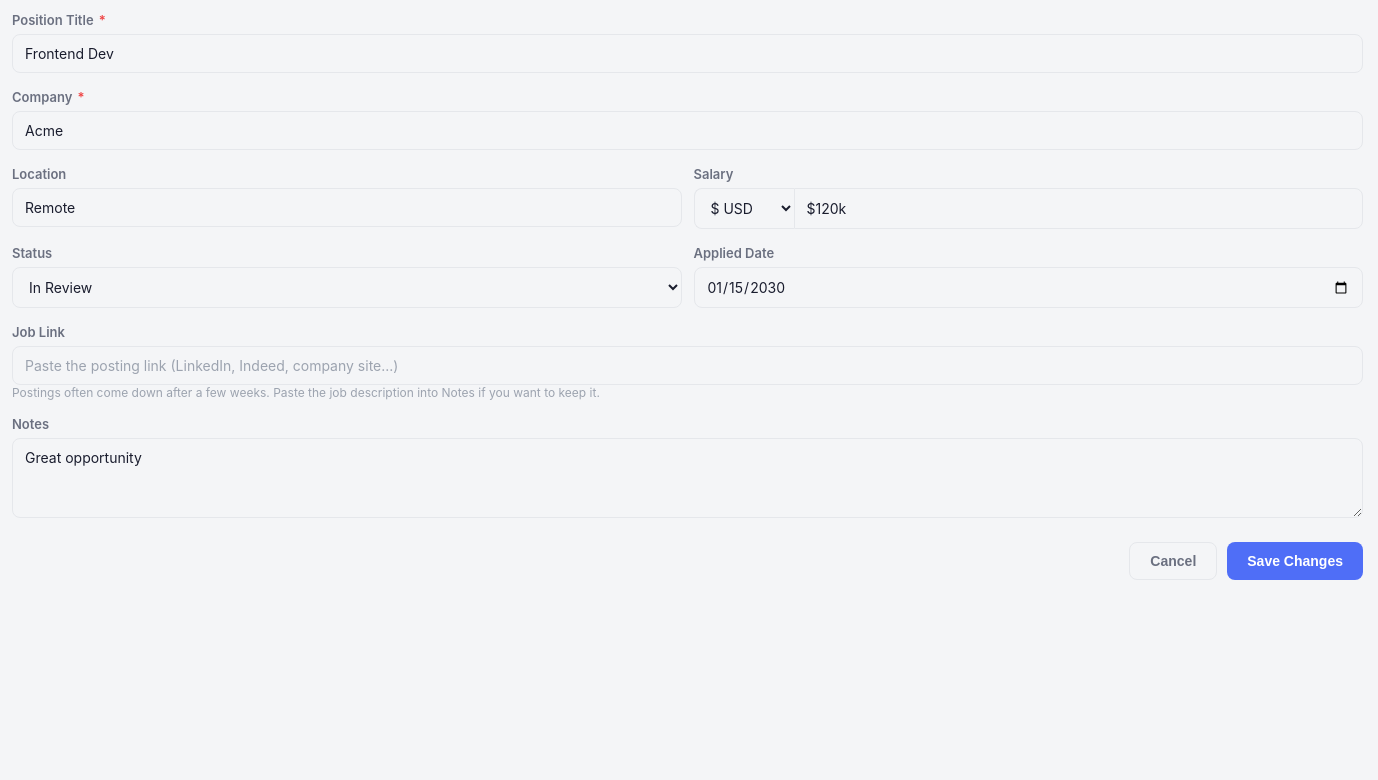
Scenario: ApplicationForm › blocks a link that is not a web address
Step 1. Type "javascript:alert(1)" into the field labelled "Job Link" → (688, 366), box x1=12 y1=346 x2=1363 y2=385
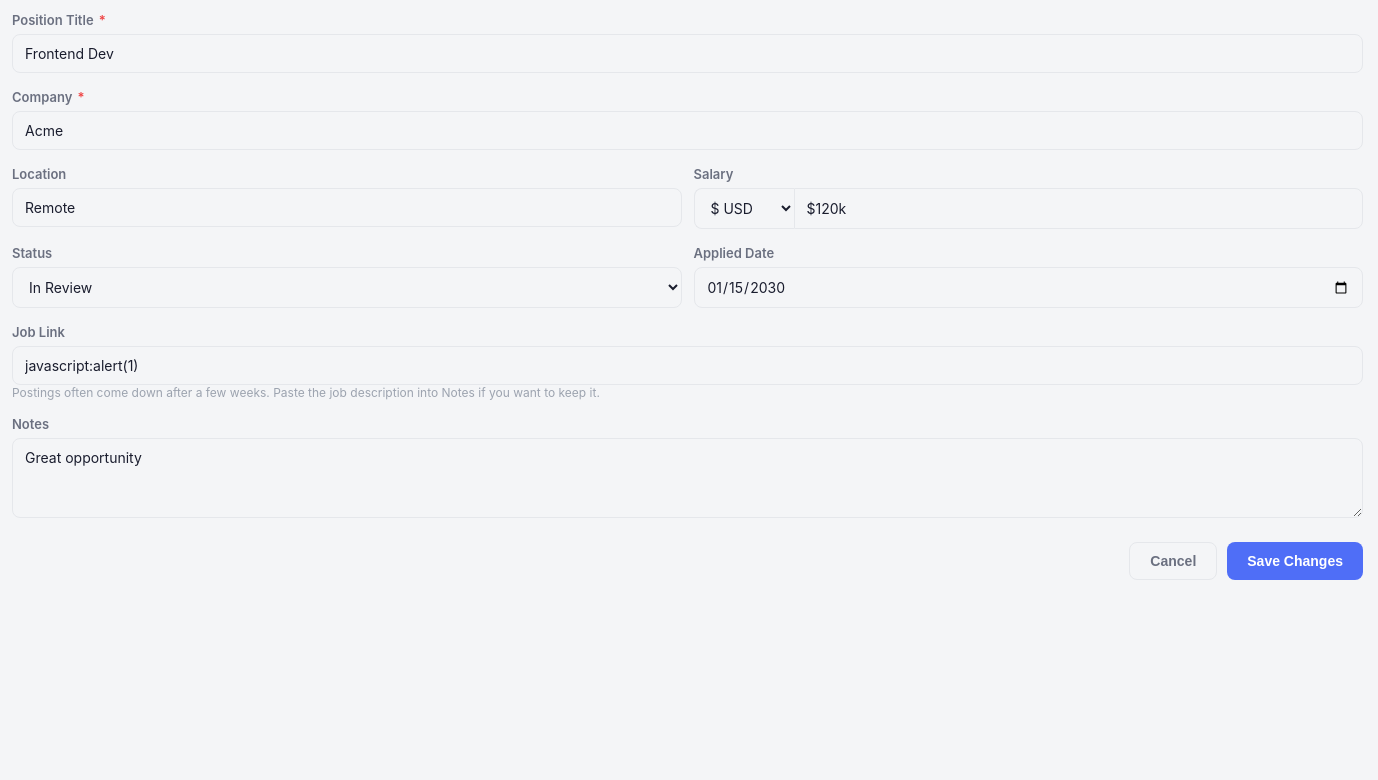
Step 2. Click the button "Save Changes" → (1295, 561), box x1=1227 y1=542 x2=1363 y2=580
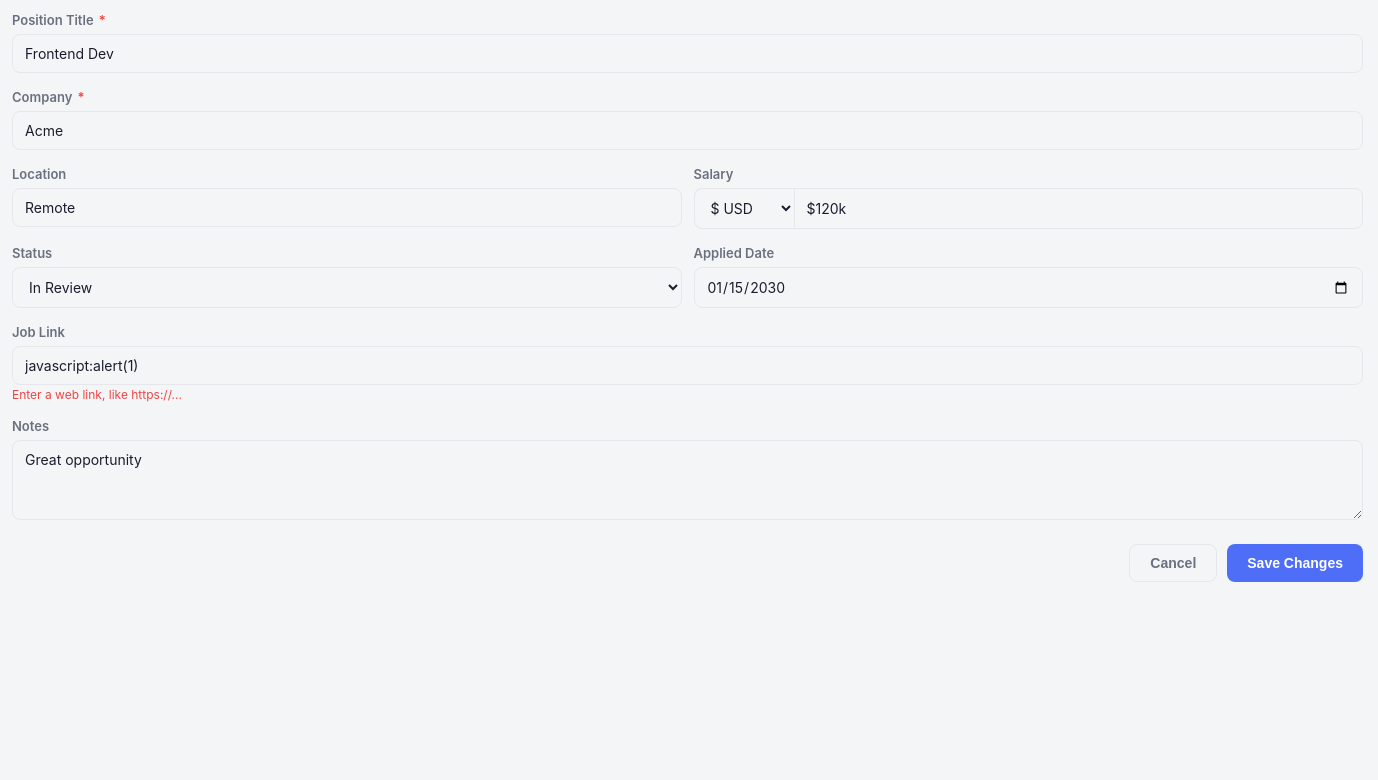
Expected: the text "Enter a web link, like https://..." is shown, x1=12 y1=387 x2=182 y2=402
